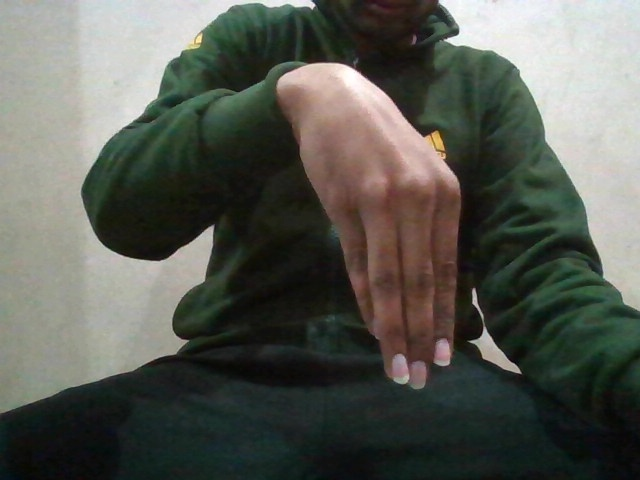M: (277, 75, 502, 393)
